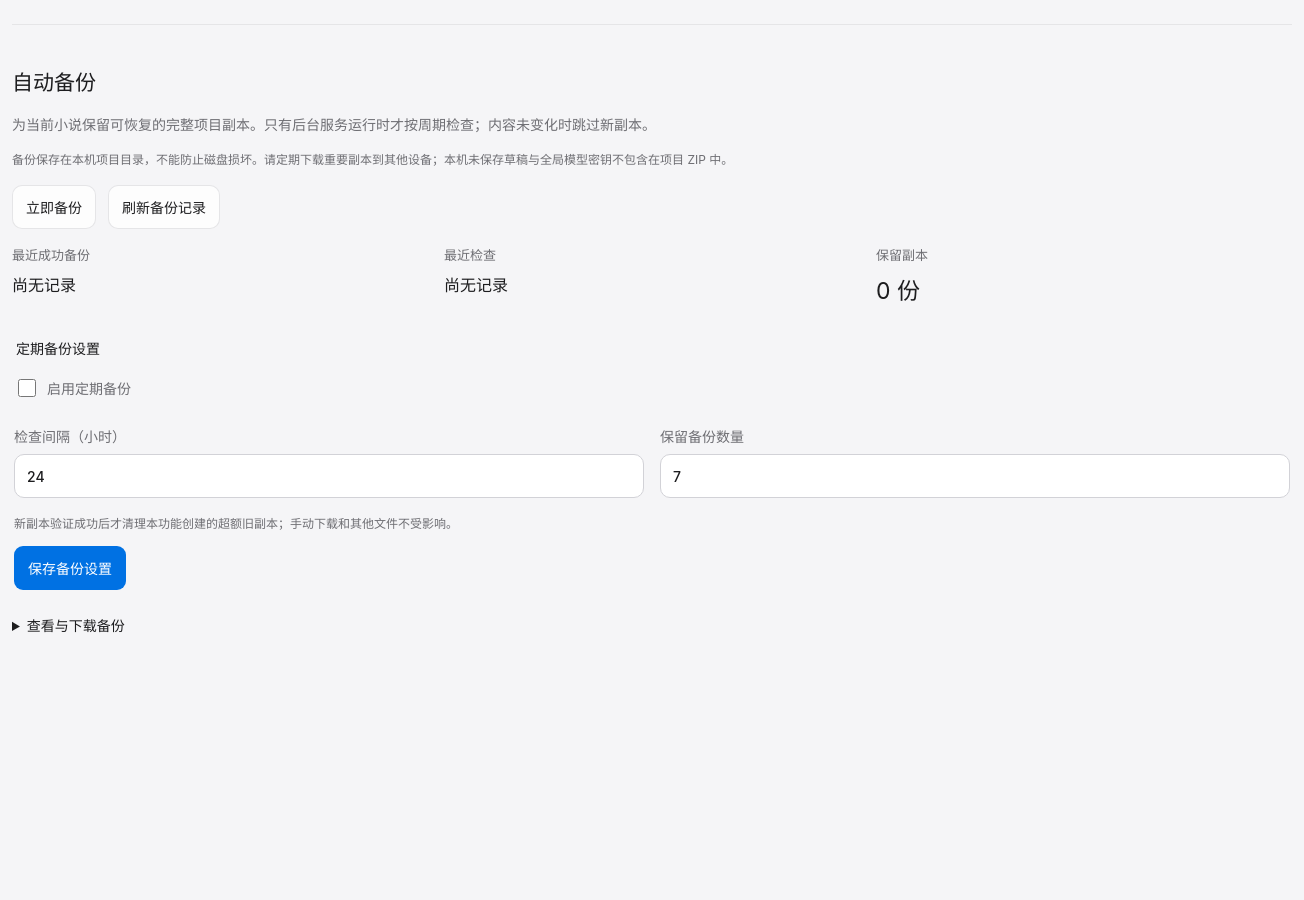
Test: disables competing actions while a policy save is pending and releases them afterward
Check: the checkbox labelled "启用定期备份" is shown, box [18,379,36,397]
Click the button "保存备份设置". click: click(70, 568)
box: [14,546,126,590]
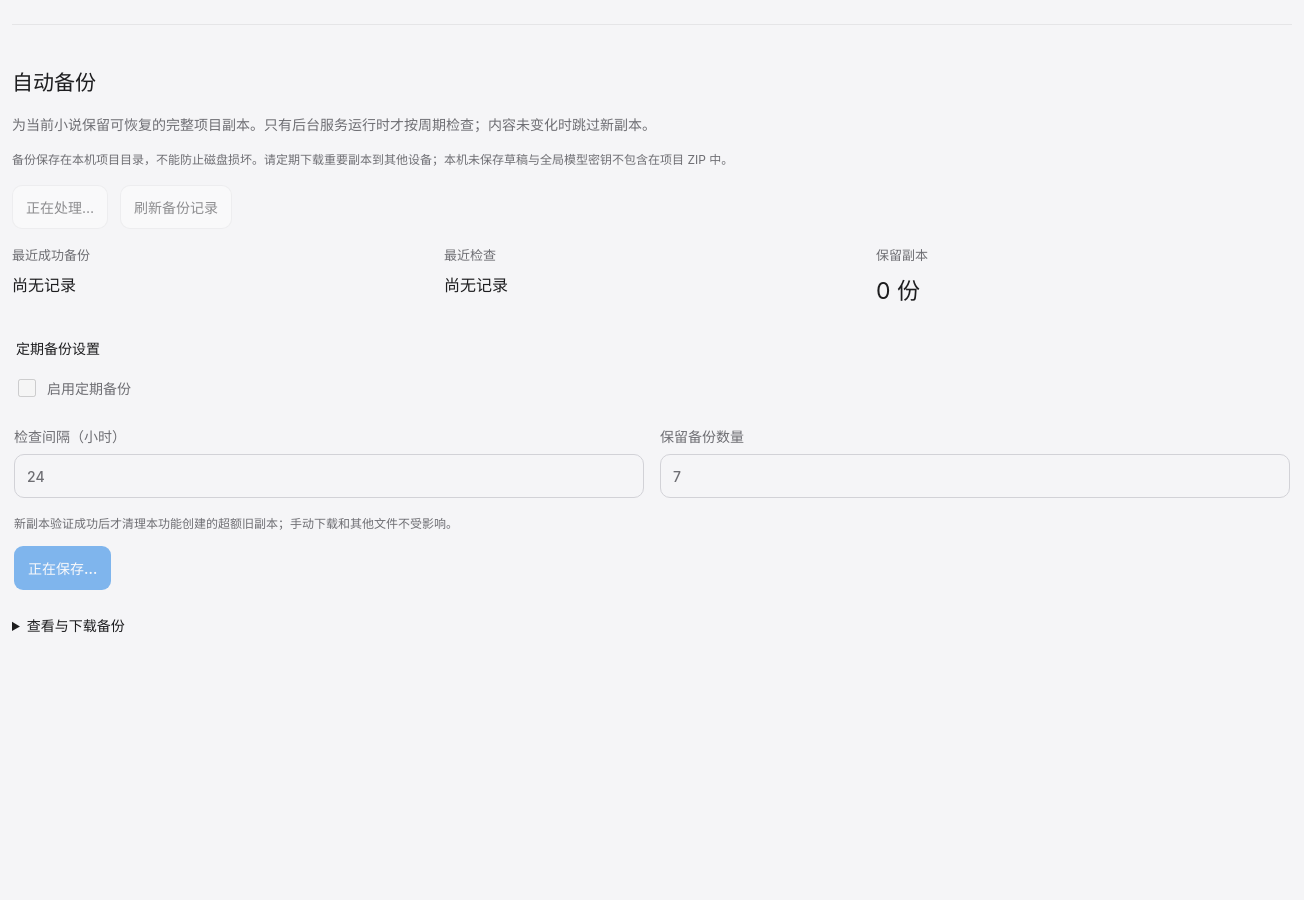
Check: the button named "立即备份" is disabled
Check: the button "刷新备份记录" is disabled, box [120,185,232,229]
Click the button named "立即备份". click: click(60, 207)
box: [12,185,108,229]
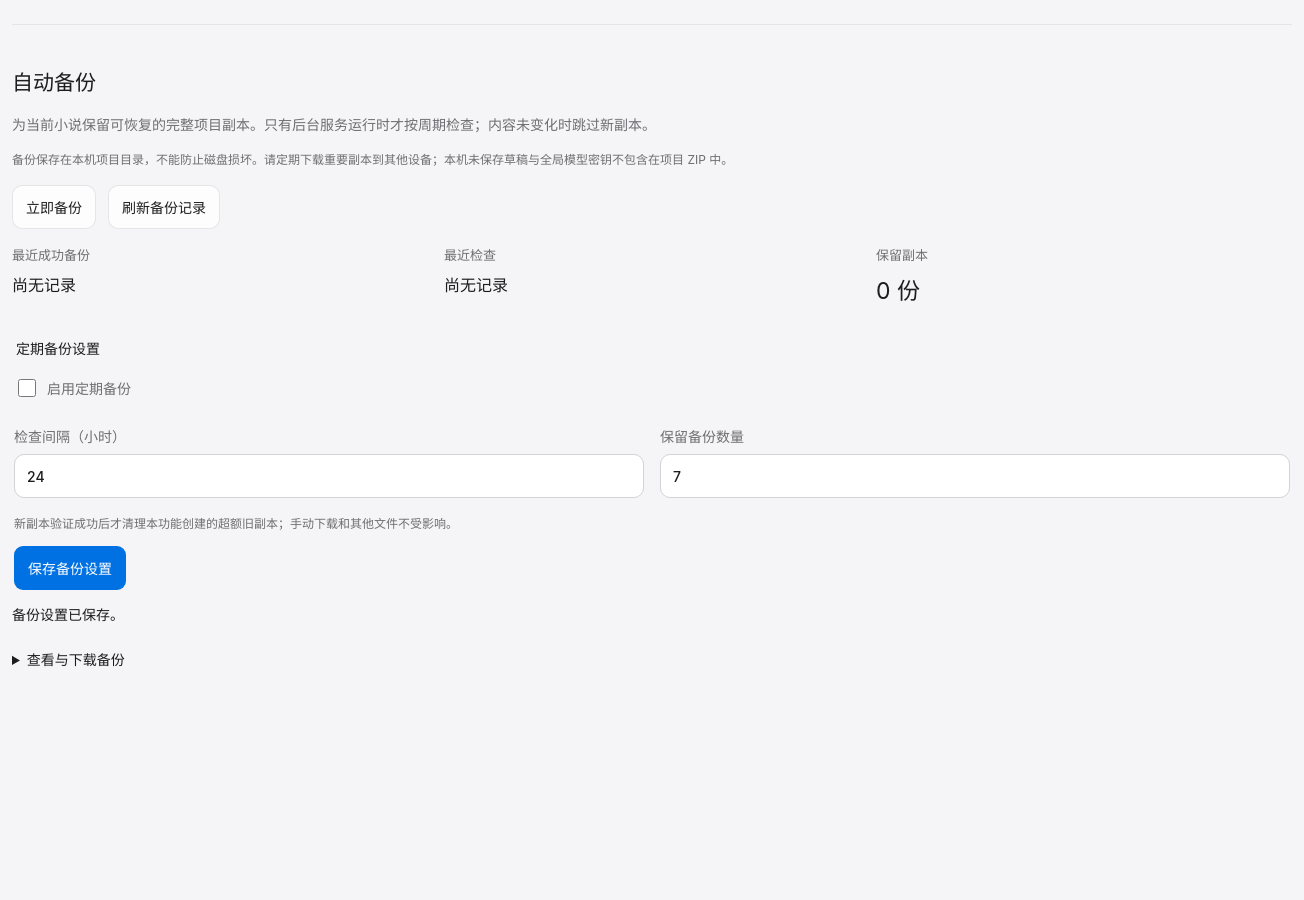
Check: the text "备份设置已保存。" is shown, box [12,606,124,623]
Check: the button "立即备份" is enabled, box [12,185,96,229]
Check: the button "刷新备份记录" is enabled, box [108,185,220,229]
